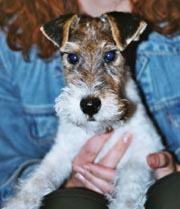wire-haired_fox_terrier: (3, 10, 168, 208)
